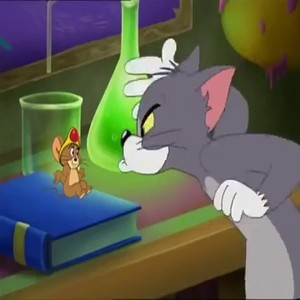Jerry: (48, 125, 98, 200)
